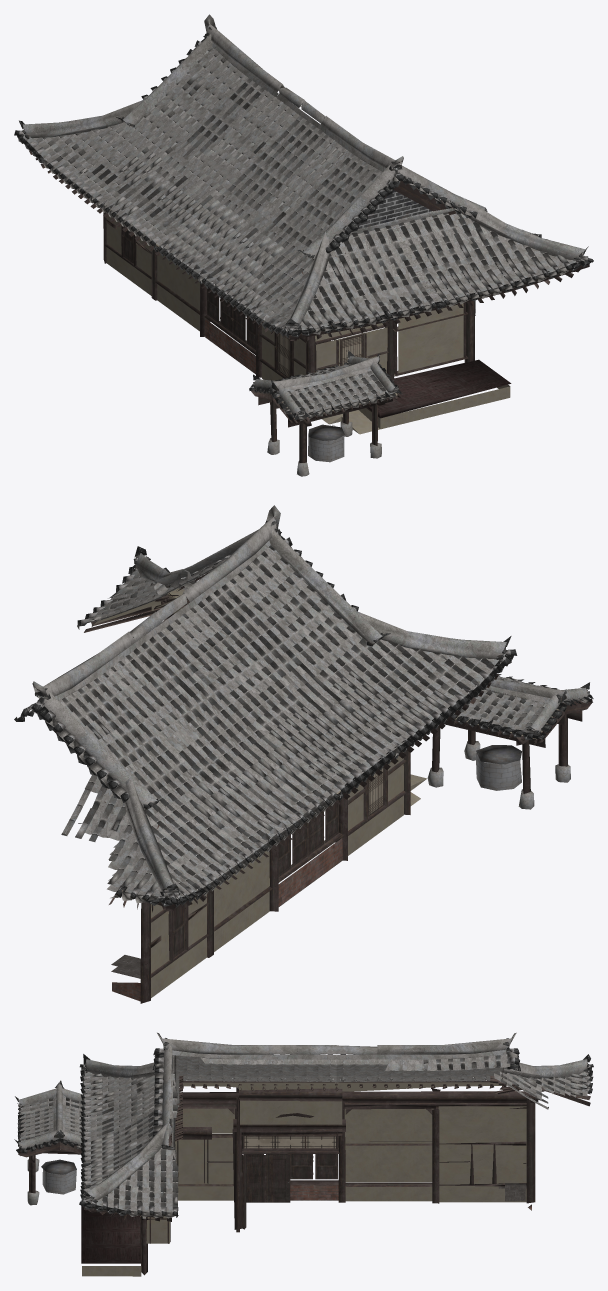
File: gIENGLow4.fbx
3 views of the same model, one above another, from view 1: azimuth 30°, elevation 25°; view 2: azimuth 150°, elevation 25°; view 3: azimuth 270°, elevation 25° (orthographic). The views are drawn at different scales.
Visible parts, largest first — view 1: Sarangchae; view 2: Sarangchae; view 3: Sarangchae.
Boxes of the visible parts, x1,y1,x2,y2 form: Sarangchae: (14,14,593,476); Sarangchae: (14,505,593,1003); Sarangchae: (14,1032,593,1276).
Size of the model in its own units: 1325 by 860 by 2119.
